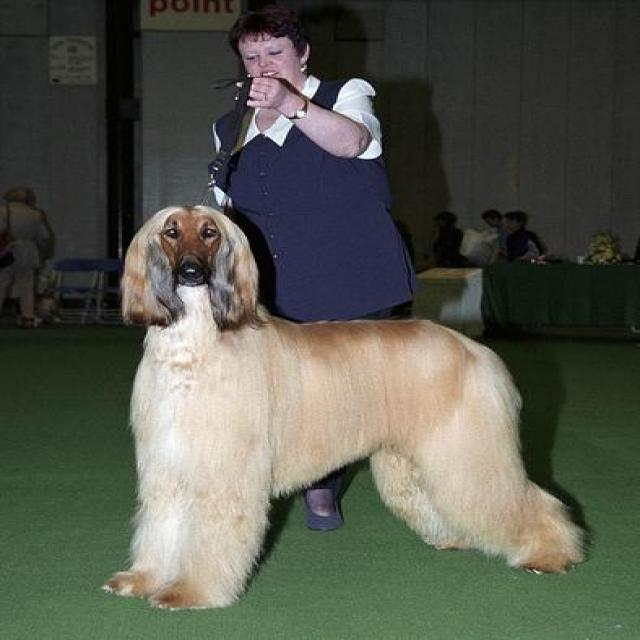afghan_hound: (102, 204, 588, 610)
